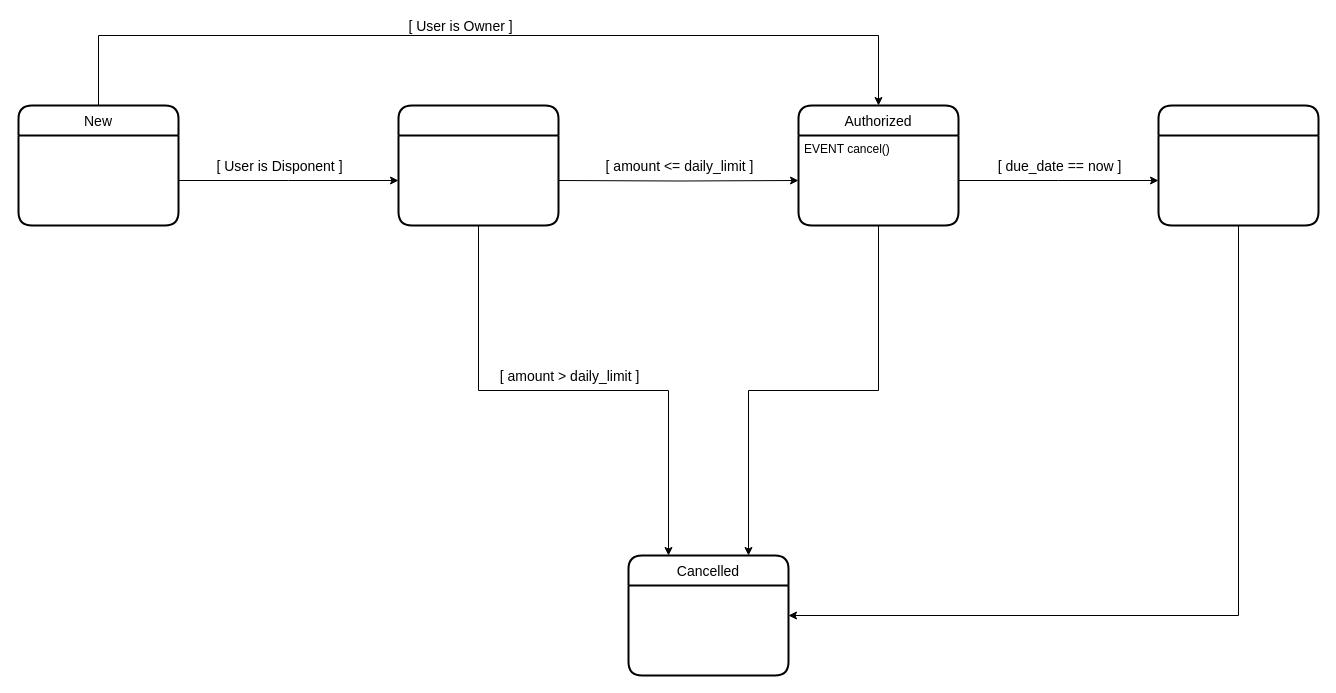
This 1336x693 diagram has some shape labels left out. The shapes that lost their labels are listed below. From the top down, each one's box as (x1, y1, x2, y2) in pixels, then its label:
(397, 104, 559, 226): Unchecked
(1157, 104, 1319, 226): Completed
